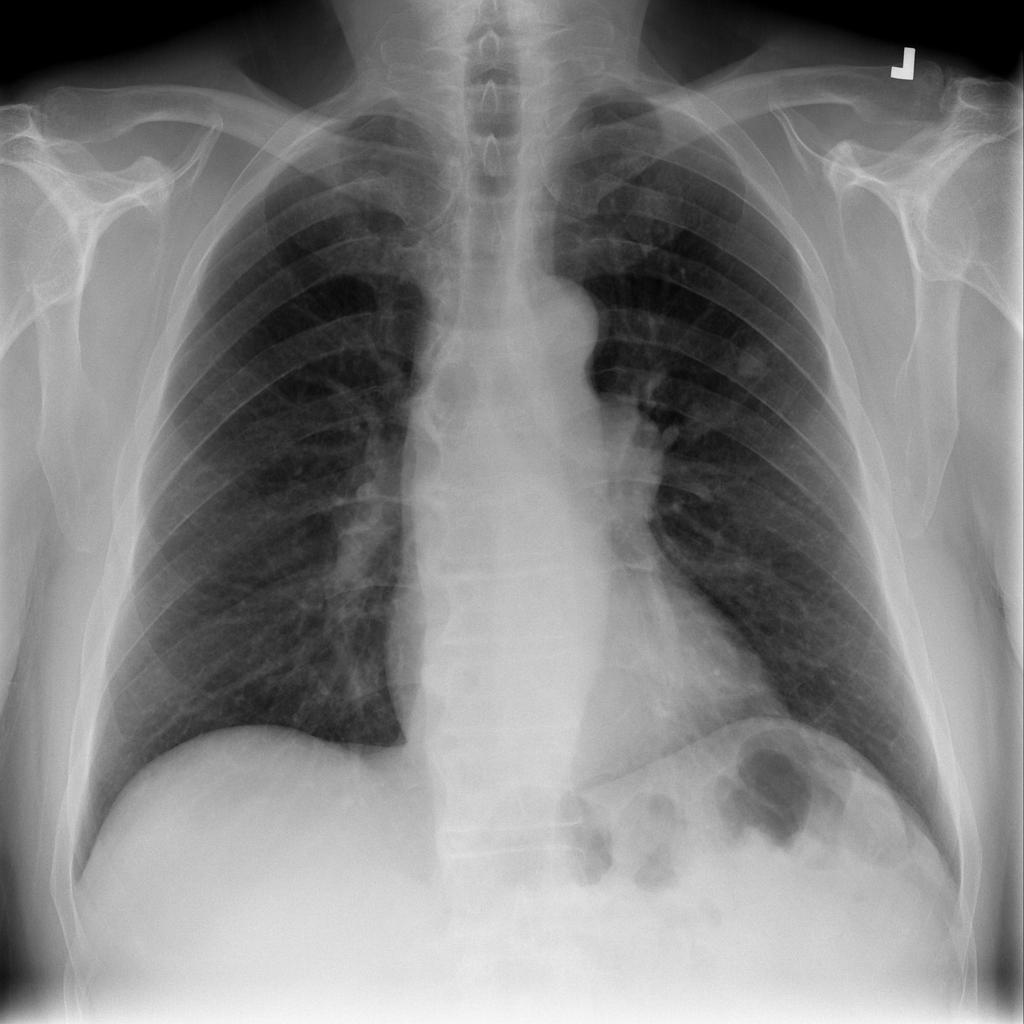nodule: (719, 322, 789, 398), (666, 380, 737, 453)
